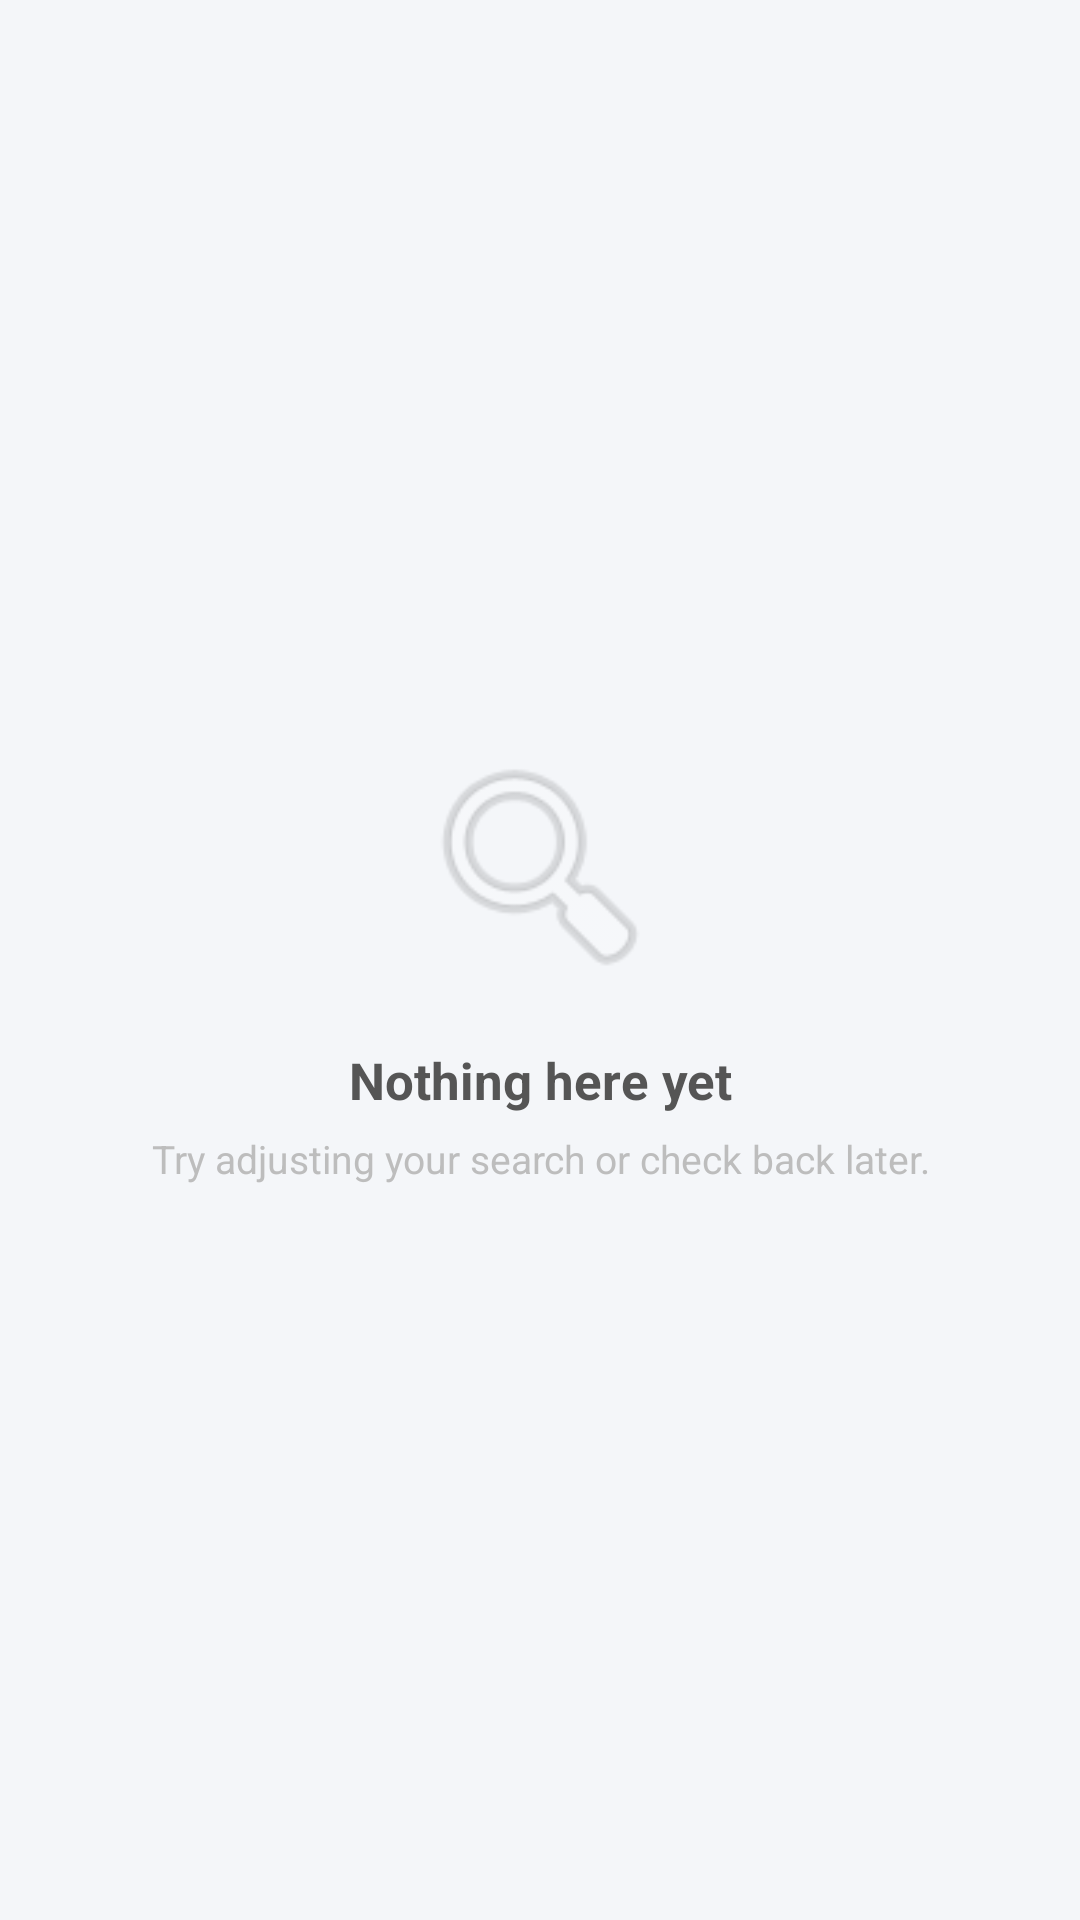

Icons on this 1080w x 1920h Android screen, each with its box as {"left": x1, "top": y1, "right": x2, "bottom": y2}:
Empty state: {"left": 444, "top": 771, "right": 636, "bottom": 963}
